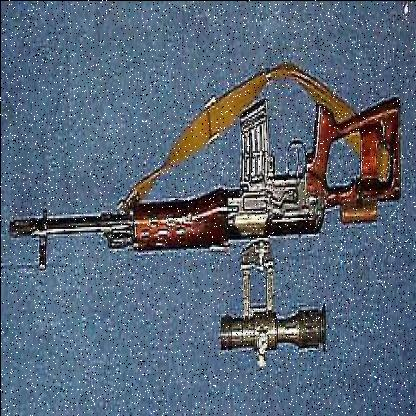rifle: (8, 59, 413, 361)
